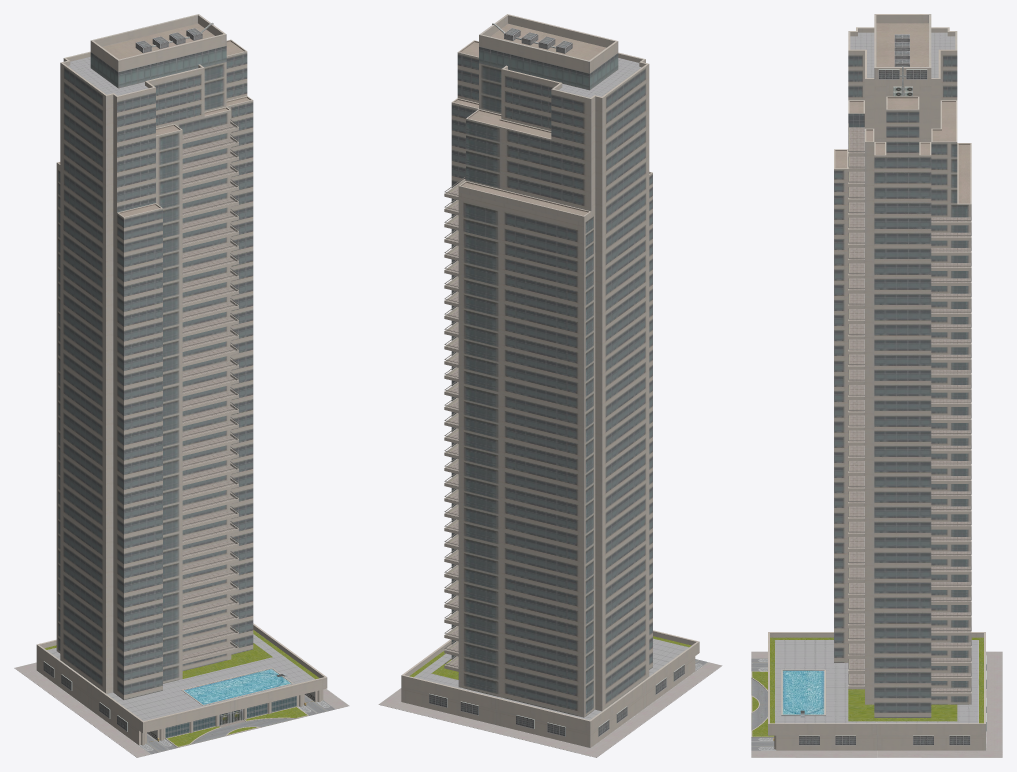
Rendered from building-skyscraper-b.glb.
The picture shows the model from 3 angles, left to right: view 1: azimuth 30°, elevation 25°; view 2: azimuth 150°, elevation 25°; view 3: azimuth 270°, elevation 25°; orthographic projection. The views are drawn at different scales.
Parts seen in each view (by area): view 1: hirise2; view 2: hirise2; view 3: hirise2.
Part boxes in pixels (<box>): hirise2: <box>14,14,349,757</box>; hirise2: <box>378,14,722,757</box>; hirise2: <box>751,14,1002,757</box>.
Size of the model in its own units: 1.24 by 3.59 by 1.24.
Materials: 1 (1 with a texture image).
